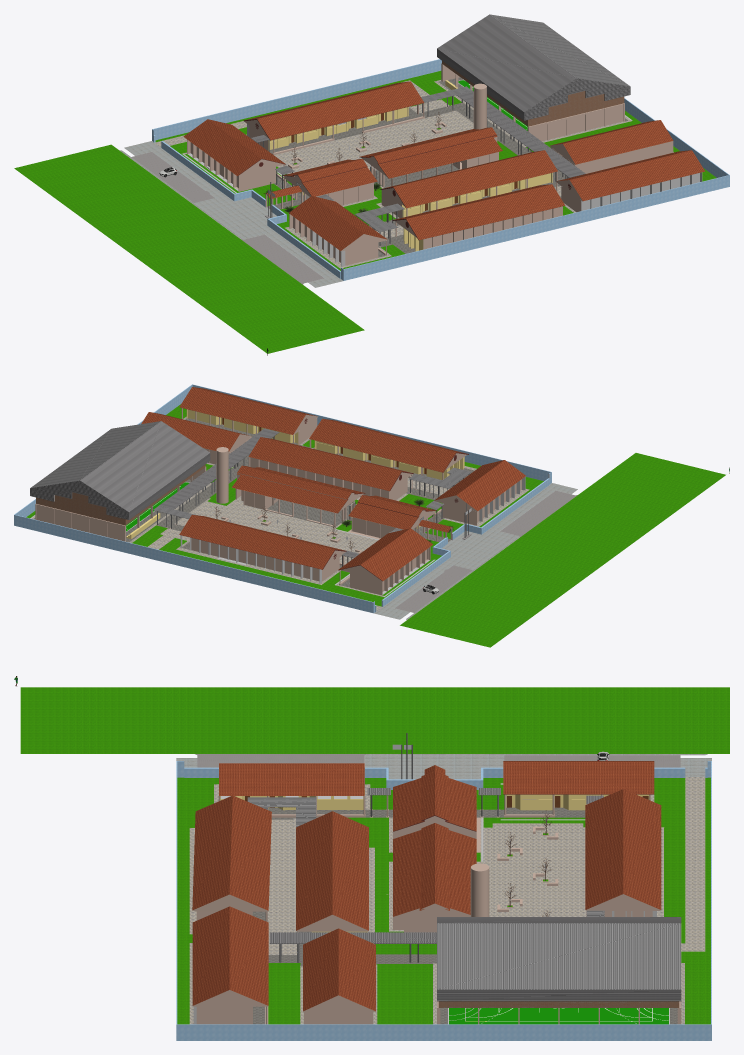
Rendered from escola.glb.
The picture shows the model from 3 angles, top to bottom: view 1: azimuth 30°, elevation 25°; view 2: azimuth 150°, elevation 25°; view 3: azimuth 270°, elevation 25°; orthographic projection. The views are drawn at different scales.
Parts seen in each view (by area): view 1: empty_20, empty_8, empty_4, empty_14, empty_35, empty_6, empty_11, empty_24, empty_23, empty_3, empty_5, empty_10 (+4 smaller); view 2: empty_8, empty_20, empty_4, empty_14, empty_6, empty_35, empty_11, empty_24, empty_23, empty_3, empty_10, empty_5 (+4 smaller); view 3: empty_8, empty_20, empty_6, empty_23, empty_14, empty_4, empty_24, empty_11, empty_7, empty_3, empty_10, empty_5 (+4 smaller).
Boxes of the visible parts, x1,y1,x2,y2 form: empty_20: (183,81,705,250); empty_8: (14,71,716,353); empty_4: (187,63,673,265); empty_14: (152,59,729,280); empty_35: (437,14,576,112); empty_6: (154,80,673,268); empty_11: (119,141,342,287); empty_24: (251,49,630,177); empty_23: (275,14,629,232); empty_3: (267,77,627,257); empty_5: (268,80,552,251); empty_10: (131,152,324,284); empty_8: (26,404,725,647); empty_20: (141,387,525,580); empty_4: (35,408,549,595); empty_14: (14,384,551,613); empty_6: (32,416,529,611); empty_35: (80,421,209,511); empty_11: (374,483,577,619); empty_24: (30,428,358,558); empty_23: (31,421,471,532); empty_3: (33,418,474,587); empty_10: (395,490,577,612); empty_5: (126,409,464,538); empty_8: (20,687,729,1024); empty_20: (192,761,661,1011); empty_6: (189,777,705,1024); empty_23: (247,788,681,989); empty_14: (176,761,711,1040); empty_4: (192,794,681,1024); empty_24: (269,795,681,1001); empty_11: (176,754,711,779); empty_7: (449,1008,668,1024); empty_3: (252,807,677,1024); empty_10: (195,754,680,799); empty_5: (220,790,649,1021).
Size of what is drawn, in the model's own units: 122 by 13.58 by 104.
85 materials, 41 textured.
